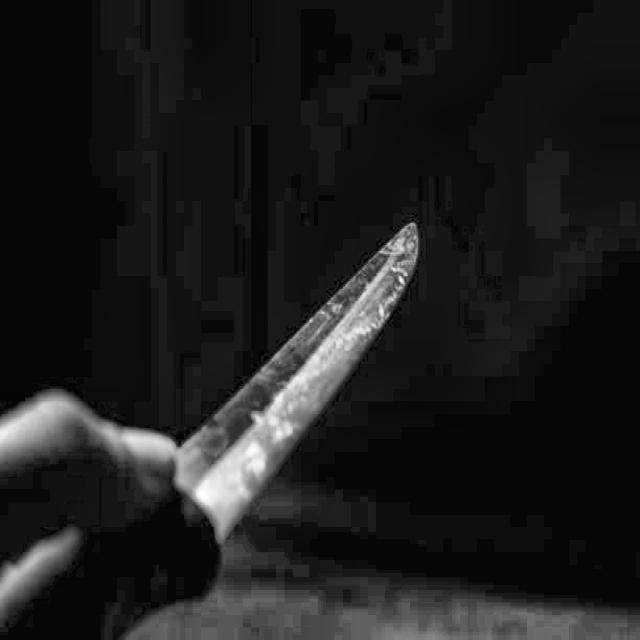pisau: (1, 208, 428, 638)
